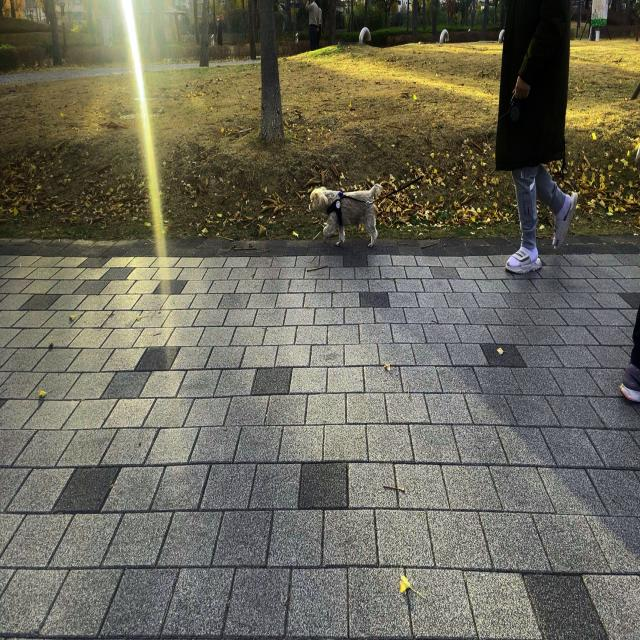Leashed_Dog: (308, 72, 542, 249)
